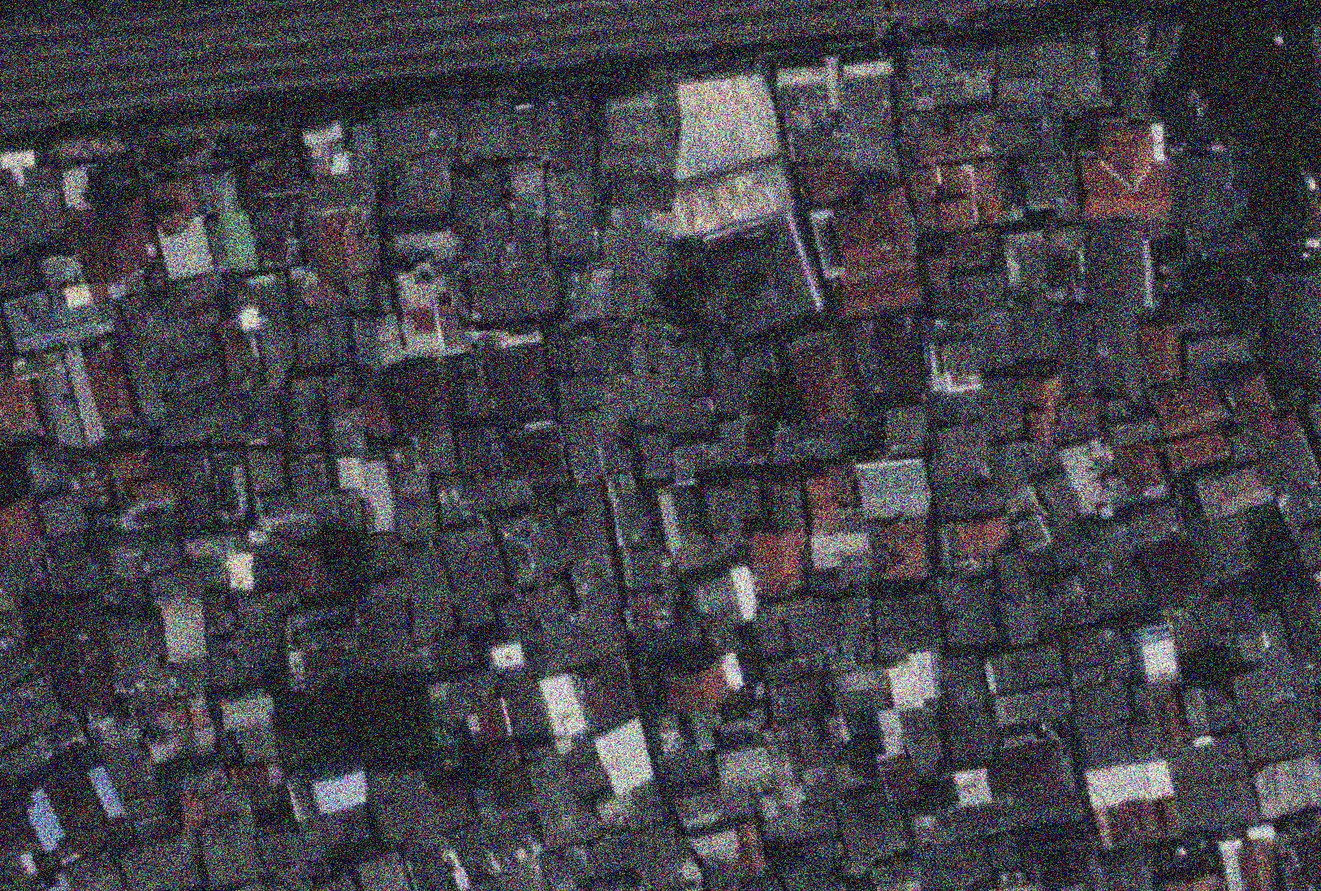building: (486, 483, 631, 678), (0, 596, 90, 787), (700, 211, 830, 341), (820, 173, 926, 321), (1217, 358, 1321, 502), (1076, 717, 1185, 852), (663, 67, 785, 184), (607, 312, 715, 439), (251, 450, 398, 541), (662, 158, 798, 247), (26, 588, 117, 720), (234, 141, 318, 271), (1076, 116, 1174, 225), (84, 708, 174, 825), (1165, 729, 1262, 836), (0, 272, 114, 362), (65, 192, 163, 296), (800, 462, 876, 596), (985, 751, 1088, 844), (905, 144, 1004, 236), (29, 343, 109, 456), (834, 56, 902, 186), (781, 324, 862, 432), (525, 592, 629, 674), (652, 637, 751, 723), (601, 165, 675, 279), (188, 785, 267, 891), (982, 639, 1074, 730), (1054, 553, 1156, 635), (770, 57, 844, 167), (1100, 21, 1179, 119), (994, 37, 1085, 122), (196, 164, 264, 277), (394, 259, 469, 360), (1082, 217, 1157, 318), (937, 573, 1038, 648), (935, 650, 1000, 766), (365, 761, 444, 856), (800, 710, 879, 803), (520, 742, 588, 849), (302, 206, 380, 297), (103, 607, 172, 709), (899, 45, 996, 116), (1171, 583, 1265, 656), (181, 530, 289, 593), (831, 258, 929, 327), (832, 790, 914, 872), (1234, 690, 1321, 767), (481, 328, 553, 421), (436, 516, 511, 605), (619, 814, 705, 891), (685, 561, 767, 641), (1138, 530, 1214, 616), (901, 103, 1000, 169), (1087, 495, 1187, 560), (1265, 265, 1321, 381), (703, 341, 786, 419), (158, 380, 254, 447), (248, 808, 329, 887), (589, 715, 665, 799), (0, 166, 68, 259), (1186, 509, 1261, 591), (401, 541, 459, 646), (465, 261, 560, 325), (353, 582, 416, 675), (868, 584, 943, 662), (1057, 434, 1127, 517), (0, 668, 69, 752), (1191, 456, 1276, 524), (389, 360, 457, 444), (79, 339, 140, 432), (571, 654, 641, 734), (853, 454, 934, 523), (1148, 372, 1229, 441), (483, 809, 550, 891), (374, 96, 461, 159), (149, 690, 221, 766), (1062, 620, 1136, 693), (1171, 151, 1237, 232), (216, 686, 281, 767), (130, 281, 202, 354), (117, 830, 202, 891), (1249, 750, 1321, 822), (985, 736, 1066, 800), (768, 707, 838, 781), (870, 310, 929, 397), (546, 166, 599, 260), (0, 489, 47, 595), (492, 502, 561, 574), (435, 819, 504, 891), (478, 738, 539, 817), (299, 154, 378, 215), (893, 700, 952, 781), (1091, 306, 1143, 397), (1239, 607, 1301, 683), (143, 166, 207, 239), (1015, 155, 1082, 223), (925, 419, 993, 486), (293, 621, 362, 687), (916, 834, 995, 891), (383, 153, 451, 219), (498, 422, 567, 487), (747, 527, 809, 599), (1017, 366, 1072, 447), (287, 259, 352, 327), (165, 446, 218, 529), (604, 468, 658, 549), (550, 89, 595, 186), (154, 214, 217, 283), (1055, 307, 1102, 399), (236, 143, 304, 206), (425, 666, 498, 724), (556, 733, 614, 806), (450, 158, 512, 226), (43, 769, 104, 837), (156, 590, 212, 664), (242, 314, 297, 389), (1217, 825, 1279, 891), (803, 463, 859, 535), (320, 373, 368, 457), (711, 735, 777, 796), (104, 529, 181, 581), (537, 669, 591, 743), (598, 89, 663, 150), (870, 515, 930, 581), (770, 837, 843, 891), (456, 93, 514, 160), (235, 593, 279, 681), (700, 480, 749, 559), (822, 594, 877, 664), (884, 649, 944, 713), (1111, 433, 1170, 498), (554, 501, 612, 567), (162, 750, 231, 805), (43, 535, 103, 598), (1129, 618, 1183, 688), (298, 117, 356, 182), (780, 594, 835, 662), (1183, 330, 1256, 381), (17, 785, 70, 855), (761, 800, 839, 847), (1163, 424, 1234, 475), (768, 419, 845, 466), (286, 452, 340, 519), (227, 266, 291, 322), (1007, 298, 1062, 363), (308, 765, 373, 819), (1069, 679, 1135, 732), (1280, 583, 1321, 668), (1066, 28, 1109, 109), (652, 484, 696, 563), (351, 310, 406, 372), (932, 476, 1003, 524), (827, 662, 890, 716), (1033, 466, 1086, 530), (613, 778, 672, 835), (979, 371, 1027, 441), (1001, 228, 1051, 295), (510, 95, 563, 158), (392, 471, 439, 542), (0, 368, 45, 442), (357, 457, 399, 536), (563, 260, 616, 322), (501, 678, 553, 741), (968, 308, 1018, 373), (1053, 385, 1111, 441), (521, 577, 579, 633), (953, 511, 1016, 562), (1231, 662, 1302, 707), (799, 155, 860, 207), (215, 204, 260, 274), (622, 582, 680, 636), (285, 376, 326, 452), (671, 780, 729, 833), (765, 675, 826, 725), (559, 402, 621, 451), (216, 685, 278, 734), (1138, 319, 1184, 385), (876, 750, 926, 809), (809, 528, 873, 574), (315, 805, 376, 853), (35, 487, 90, 540), (943, 226, 1002, 275), (424, 629, 483, 678), (1274, 476, 1321, 537), (433, 471, 484, 527), (575, 831, 631, 882), (949, 266, 1008, 314), (619, 541, 675, 591), (491, 592, 541, 648), (210, 315, 253, 380), (1148, 684, 1192, 747), (239, 386, 285, 446), (352, 848, 416, 891), (459, 218, 514, 268), (429, 779, 479, 834), (661, 389, 716, 439), (985, 437, 1032, 495), (656, 745, 715, 791), (166, 351, 226, 396), (23, 441, 73, 495), (539, 843, 595, 891), (463, 694, 514, 746), (84, 762, 127, 823), (212, 455, 251, 522), (391, 224, 461, 261), (119, 473, 177, 517), (488, 764, 538, 815), (881, 403, 928, 456), (991, 547, 1035, 603), (413, 430, 462, 480), (1008, 506, 1056, 557), (559, 326, 606, 378), (557, 372, 618, 412), (163, 272, 224, 312), (508, 159, 548, 219), (0, 493, 38, 556), (63, 853, 126, 891), (672, 440, 722, 486), (105, 446, 153, 493), (456, 424, 502, 473), (0, 805, 37, 865), (253, 504, 313, 541), (635, 428, 676, 482), (0, 629, 35, 692), (608, 275, 654, 322), (684, 706, 728, 755), (764, 477, 805, 529), (1180, 686, 1214, 748), (734, 818, 769, 878), (1101, 854, 1156, 891), (168, 655, 215, 698), (911, 807, 960, 848), (476, 474, 535, 508), (252, 504, 312, 537), (246, 447, 287, 495), (514, 214, 551, 267), (294, 320, 334, 369), (1107, 412, 1163, 447), (597, 320, 633, 374), (870, 855, 923, 891), (951, 766, 995, 809), (653, 710, 691, 759), (228, 760, 284, 793), (288, 543, 322, 596), (688, 828, 740, 862), (954, 803, 1003, 839), (567, 440, 607, 484), (1180, 301, 1232, 334), (734, 474, 768, 523), (716, 416, 749, 466), (38, 252, 85, 287), (469, 784, 504, 829), (347, 118, 381, 160), (60, 165, 90, 210), (189, 298, 226, 334), (702, 862, 743, 891), (336, 455, 365, 494), (209, 653, 237, 688), (179, 794, 206, 830), (1163, 873, 1217, 891), (235, 304, 263, 332), (316, 873, 357, 891), (648, 135, 672, 159), (750, 533, 762, 562), (125, 299, 135, 317)
tree: (299, 671, 433, 778), (1226, 28, 1321, 123), (1246, 180, 1321, 265), (1166, 17, 1246, 96), (332, 69, 449, 123), (1247, 109, 1321, 192), (239, 89, 338, 137), (1242, 0, 1313, 63), (1208, 80, 1274, 147), (315, 522, 372, 596), (665, 283, 724, 351), (1214, 275, 1272, 338), (1147, 72, 1205, 130), (599, 49, 660, 103), (1176, 637, 1229, 698), (81, 160, 140, 213), (754, 373, 806, 431), (1059, 0, 1135, 35), (1185, 257, 1231, 304), (1268, 366, 1315, 412), (661, 644, 716, 680), (331, 836, 385, 871), (269, 681, 301, 735), (1154, 234, 1196, 274), (1179, 112, 1221, 151), (666, 237, 705, 273), (1060, 114, 1099, 150), (1, 441, 27, 491), (841, 738, 876, 774), (921, 777, 958, 810), (763, 838, 798, 872), (734, 649, 769, 680), (731, 620, 763, 652), (860, 396, 890, 425), (305, 589, 344, 609), (861, 171, 892, 192), (150, 143, 179, 164), (864, 431, 885, 455)
